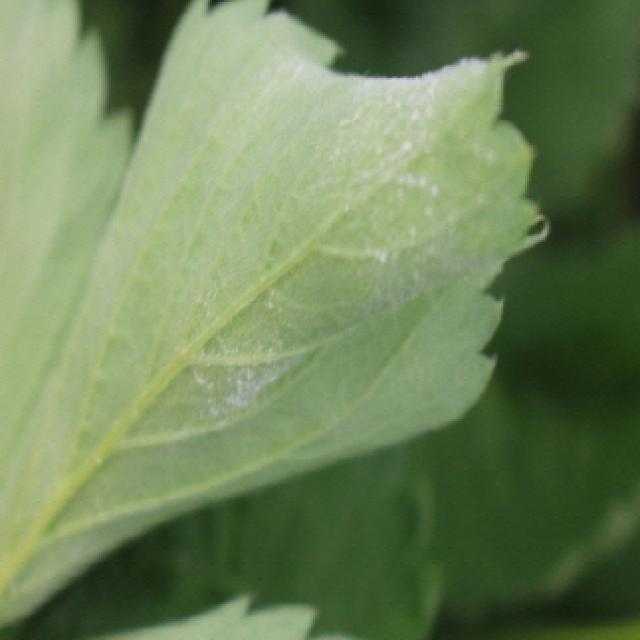Powdery Mildew Leaf: (0, 0, 552, 625)
